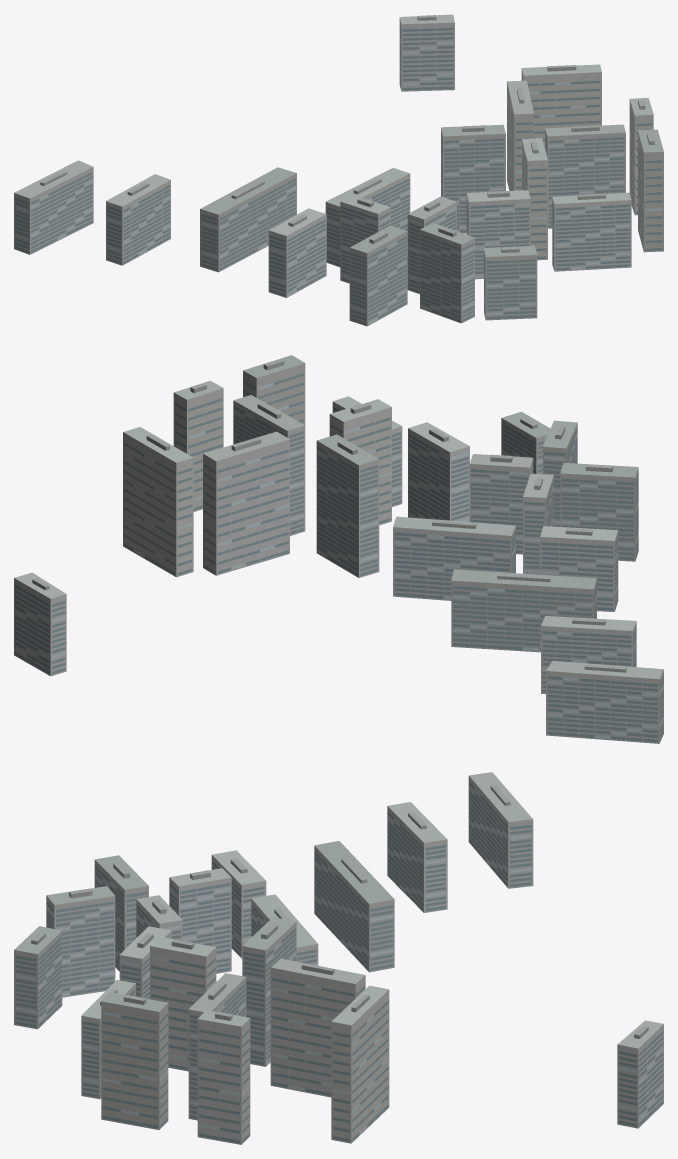
Rendered from apt-a15701602.glb.
3 views of the same model, one above another, from view 1: azimuth 30°, elevation 25°; view 2: azimuth 150°, elevation 25°; view 3: azimuth 270°, elevation 25° (orthographic). The views are drawn at different scales.
Parts seen in each view (by area): view 1: apt-a15701602; view 2: apt-a15701602; view 3: apt-a15701602.
Part boxes in pixels (box(x1,y1,x2,y2)): apt-a15701602: box(14, 14, 663, 326); apt-a15701602: box(14, 355, 663, 743); apt-a15701602: box(14, 772, 663, 1144).
Bounding box in the file's own units: 375 × 70 × 337.
